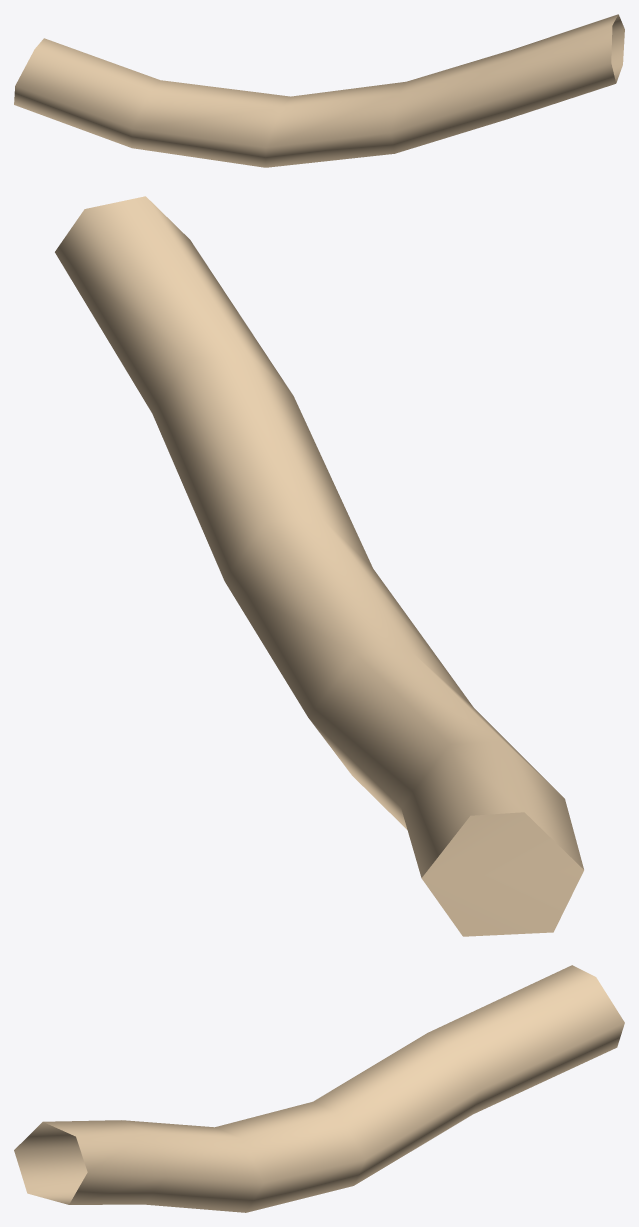
File: L_B_Facial_Nerve01.fbx
The picture shows the model from 3 angles, top to bottom: view 1: azimuth 30°, elevation 25°; view 2: azimuth 150°, elevation 25°; view 3: azimuth 270°, elevation 25°; orthographic projection. The views are drawn at different scales.
Visible parts, largest first — view 1: L_B_Facial_Nerve; view 2: L_B_Facial_Nerve; view 3: L_B_Facial_Nerve.
Boxes of the visible parts, x1,y1,x2,y2 form: L_B_Facial_Nerve: (14, 14, 624, 167); L_B_Facial_Nerve: (55, 196, 583, 936); L_B_Facial_Nerve: (14, 965, 624, 1212).
Bounding box in the file's own units: 0.5015 × 0.1687 × 0.4453.
